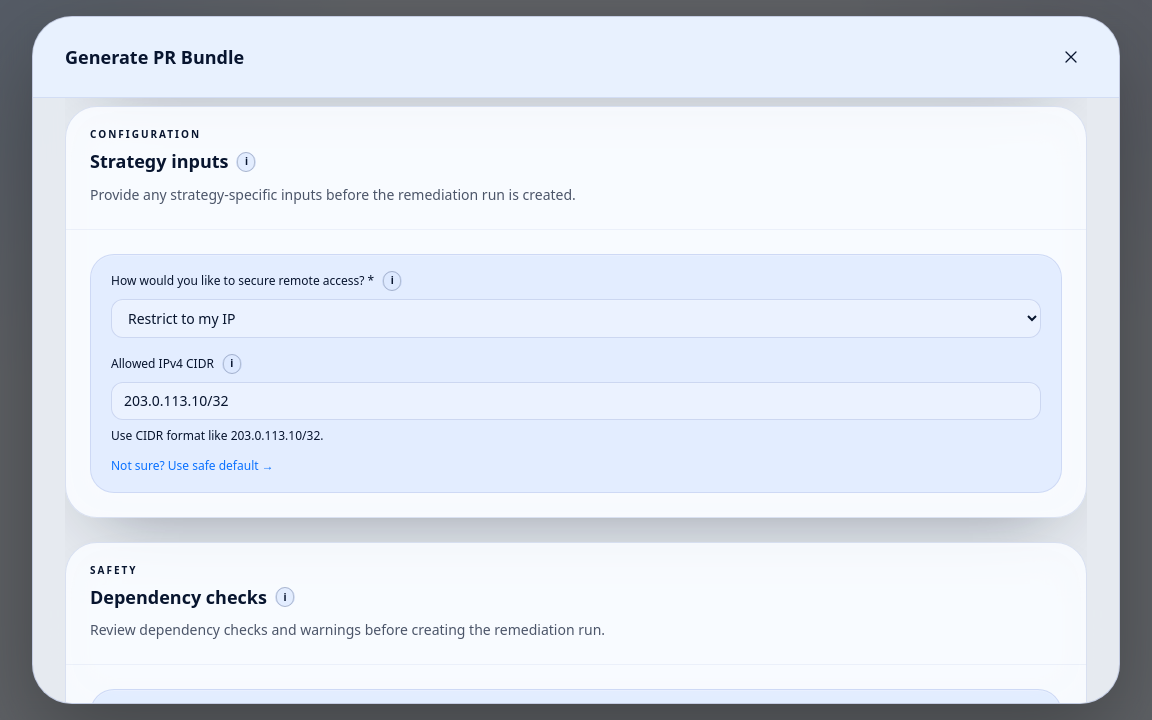
Test: RemediationModal › applies safe default for EC2.53 CIDR escape hatch
(page scrolled)
Type "10.0.0.0/24" into the field labelled "Allowed IPv4 CIDR" at (576, 401), box [111,382,1041,420]
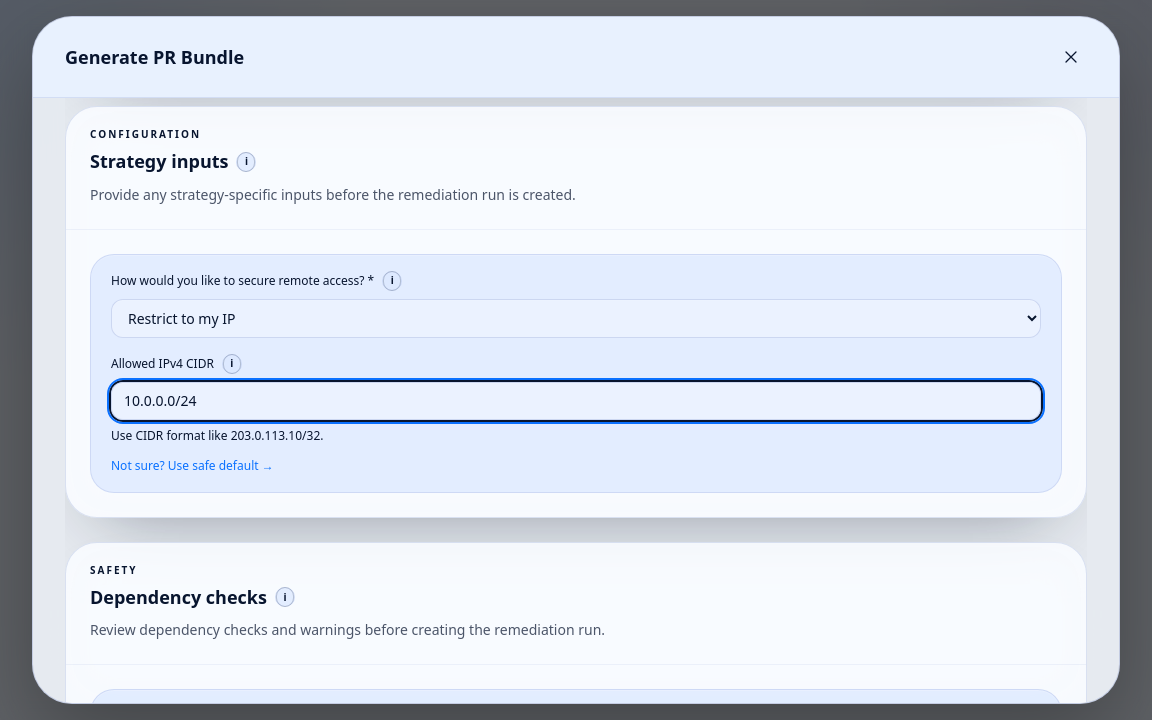
Click the button "Not sure? Use safe default →" at (192, 466), box [111,458,274,474]
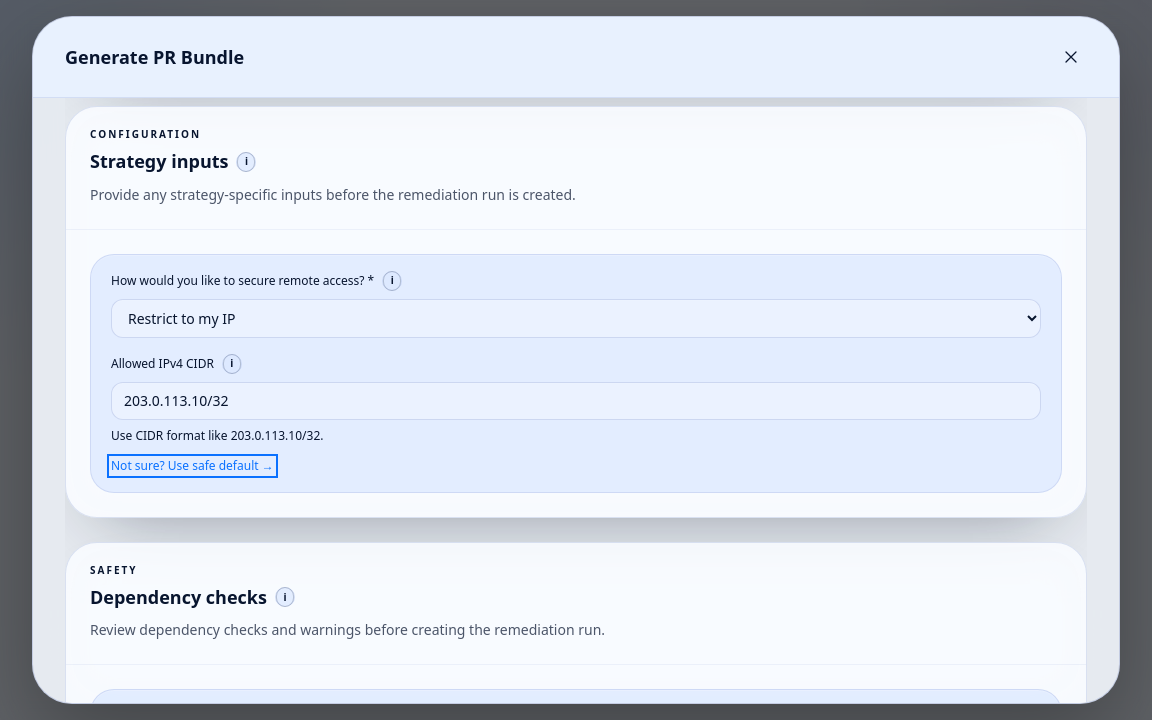
Expected: the field labelled "Allowed IPv4 CIDR" holds "203.0.113.10/32", [111,382,1041,420]
